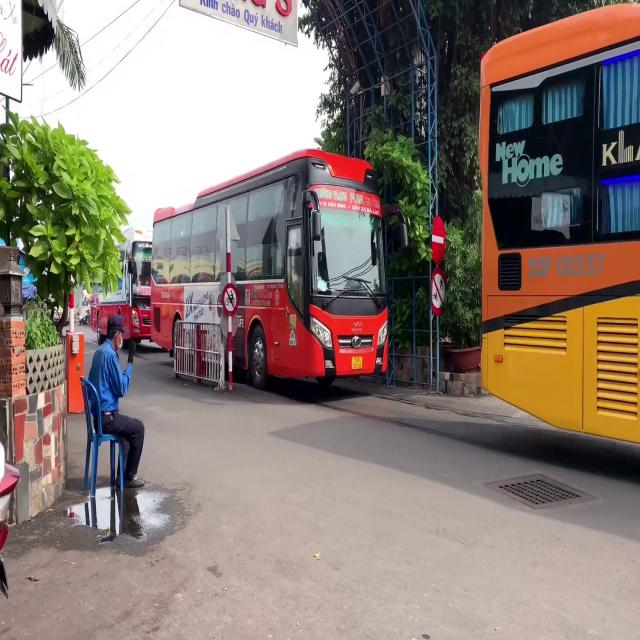bien_vang: (351, 356, 363, 369)
